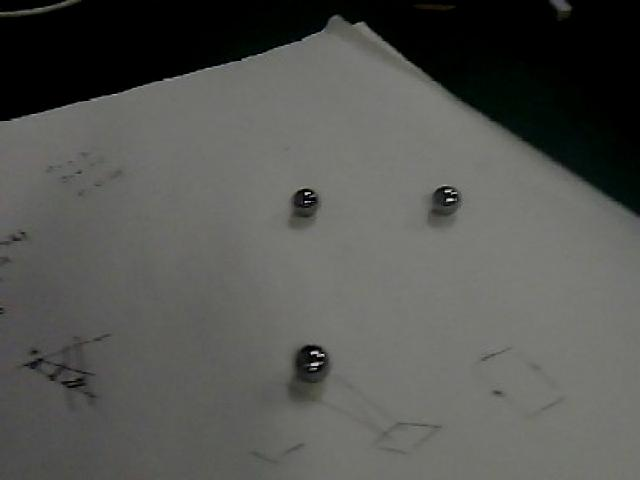steel-ball: (283, 312, 345, 388), (420, 165, 475, 223), (280, 172, 334, 223)
